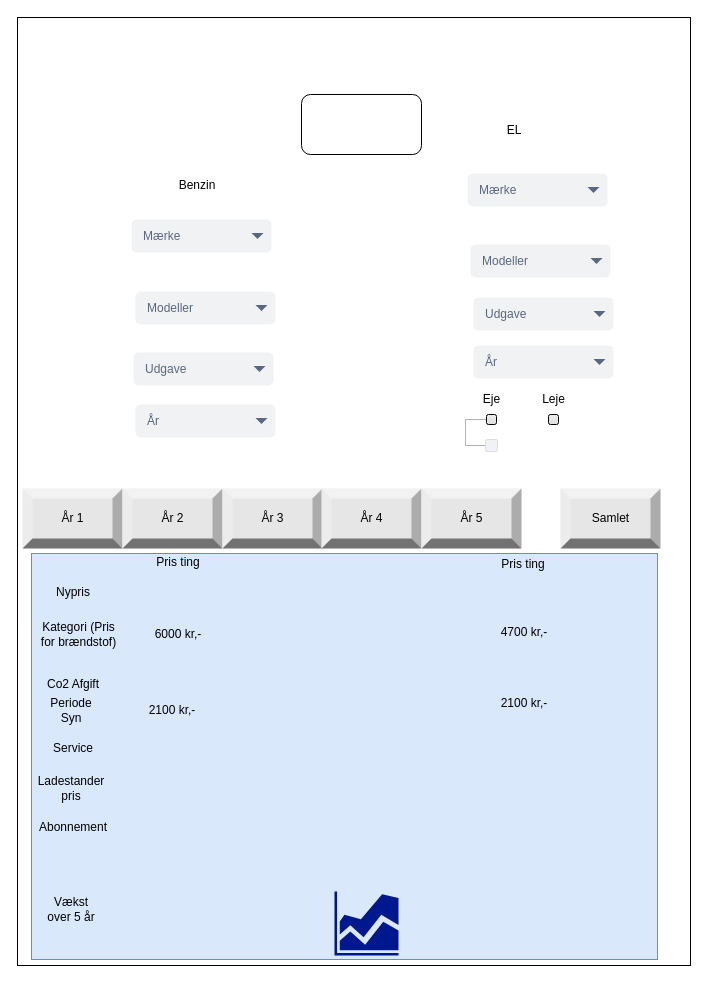
The diagram is 708 pixels wide and 983 high, and some of its shapes have lost their labels. The shapes that lost their labels are listed below. From the top down, each one's box as (x1, y1, x2, y2) in pixels, then its label:
(300, 94, 422, 154): KM om året
(484, 438, 498, 452): Har abonnoment?
